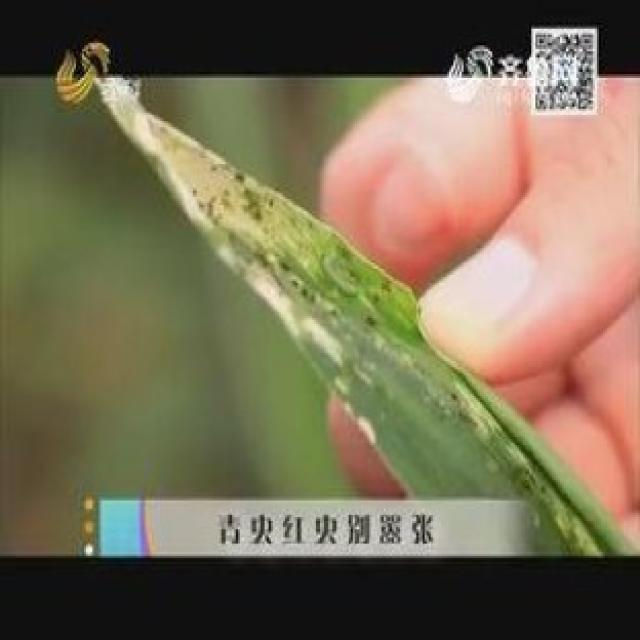rice leaf roller: (98, 78, 416, 363)
